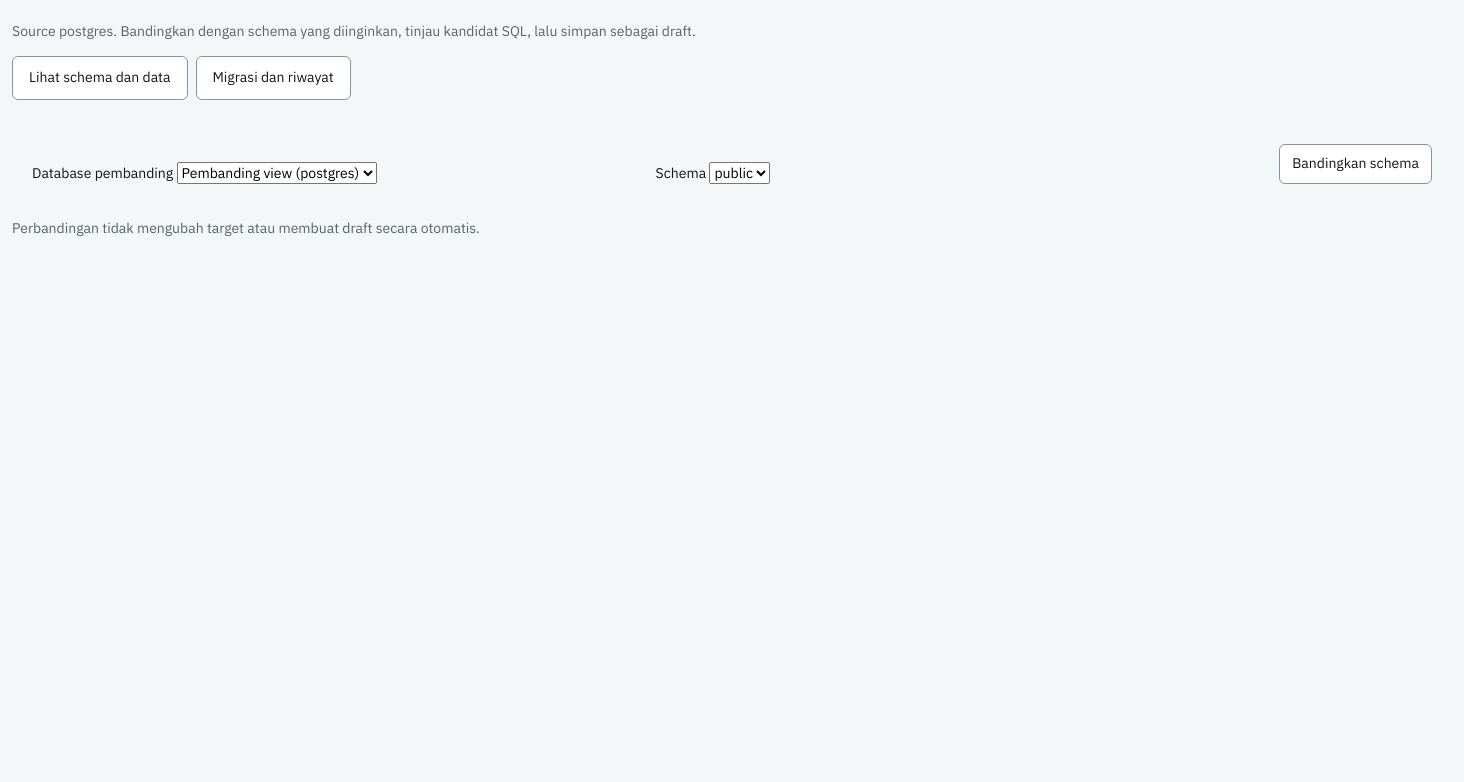
generates without creating or executing and saves edited SQL with the original head and fingerprint
This screenshot has width=1464, height=782.
Click the button "Bandingkan schema" at (1356, 164), box [1279,144,1432,184]
(page scrolled)
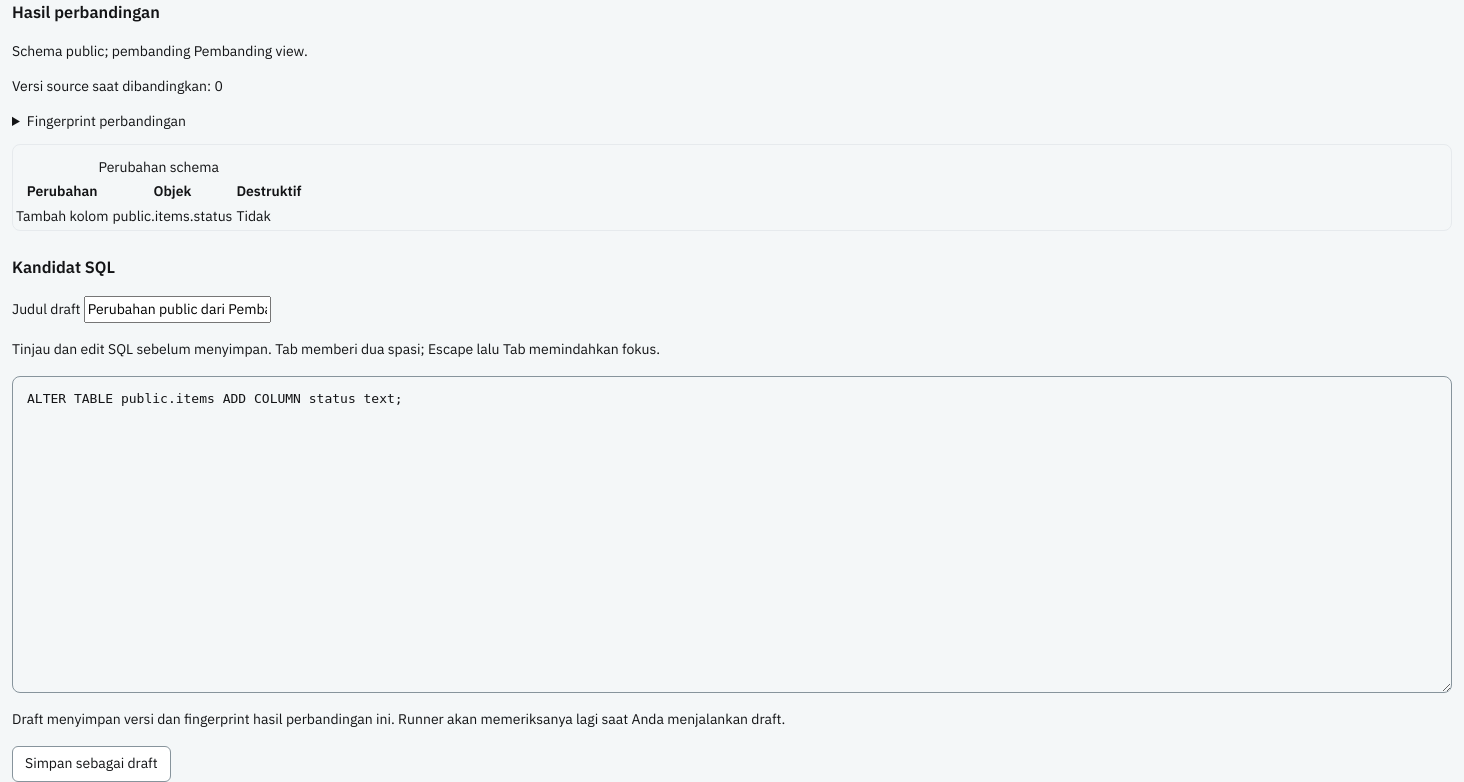
Replace the text in the text box named "SQL migrasi" with "ALTER TABLE public.items ADD COLUMN edited text;" at (732, 534), box [12,376,1452,693]
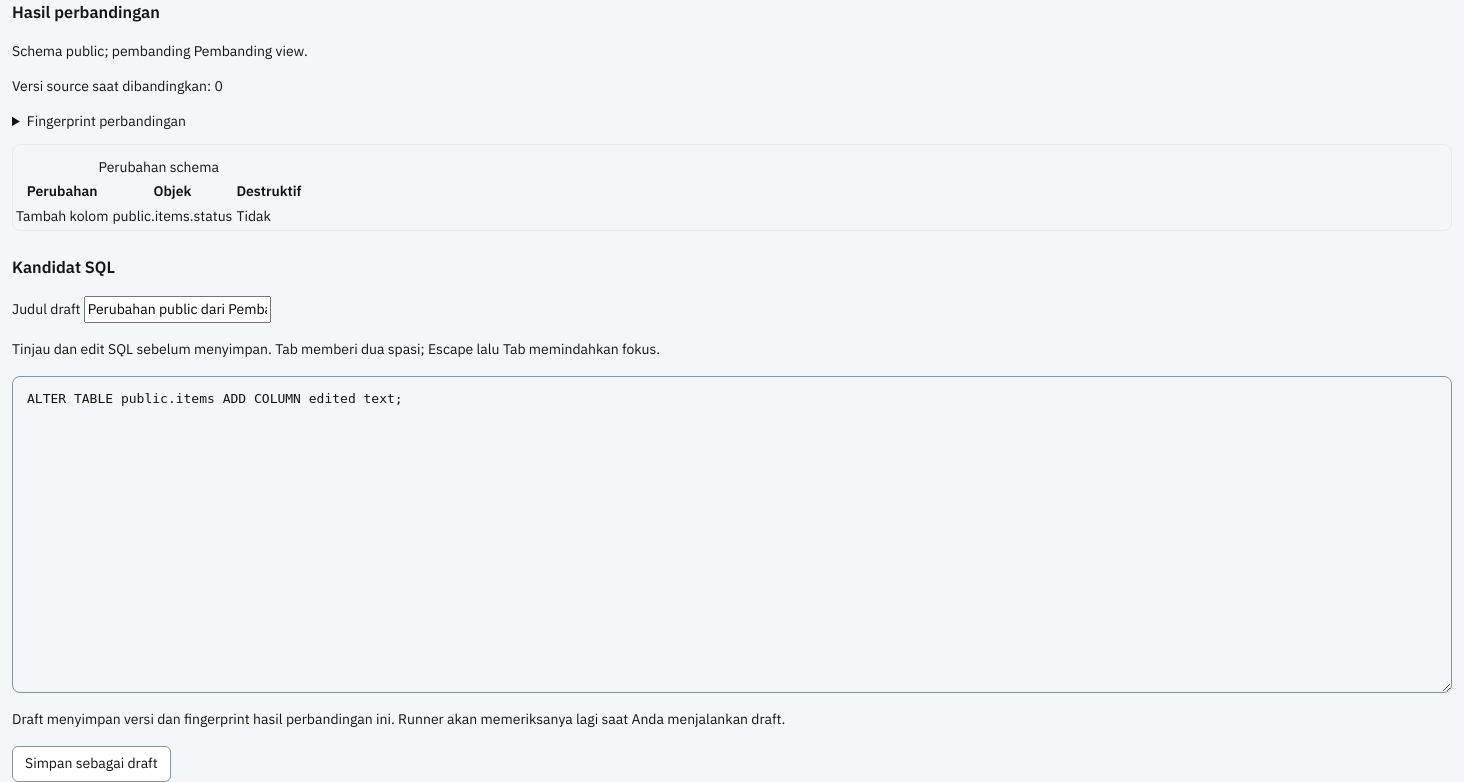
Replace the text in the field labelled "Judul draft" with "SQL yang ditinjau" at (177, 309), box [84,296,271,323]
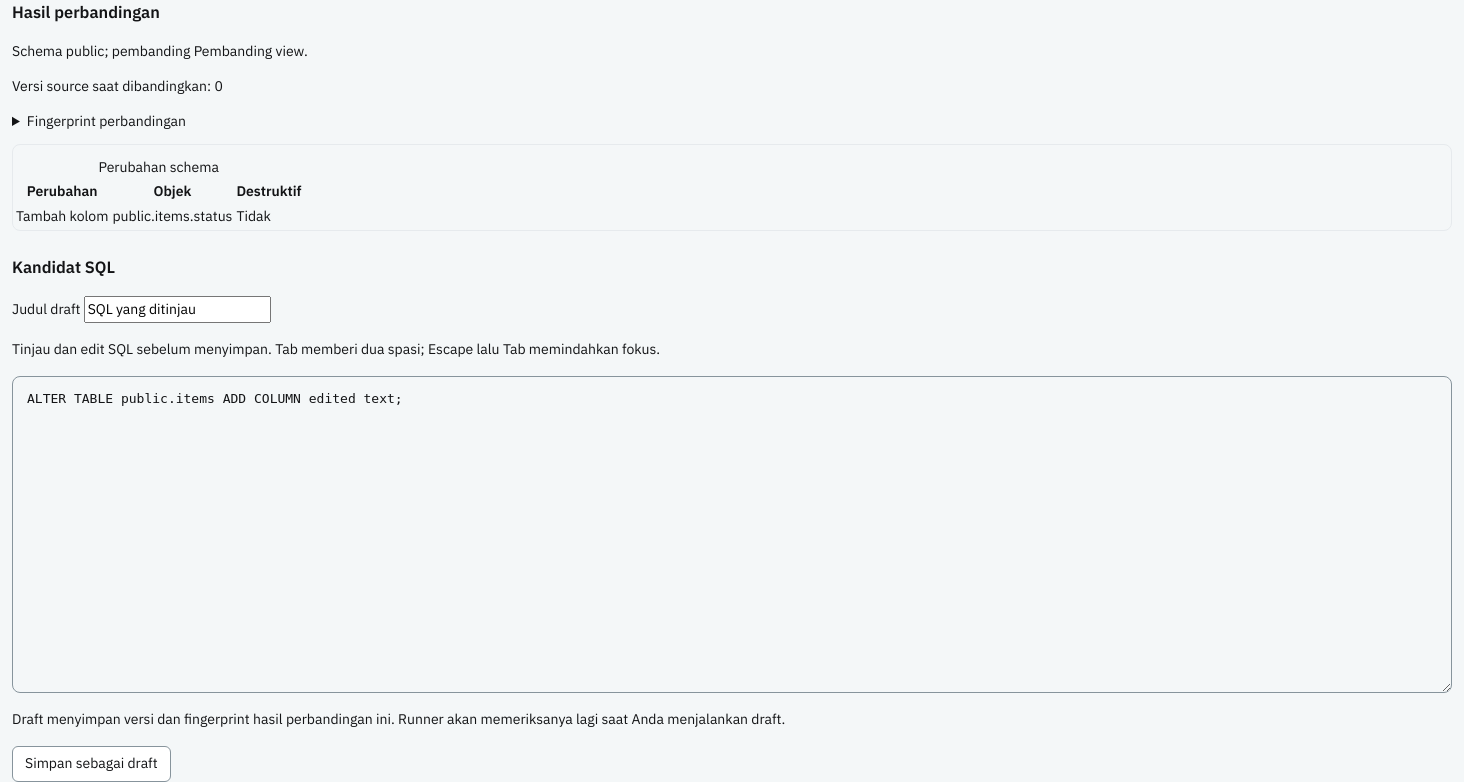
Click the button "Simpan sebagai draft" at (91, 764), box [12,746,171,781]
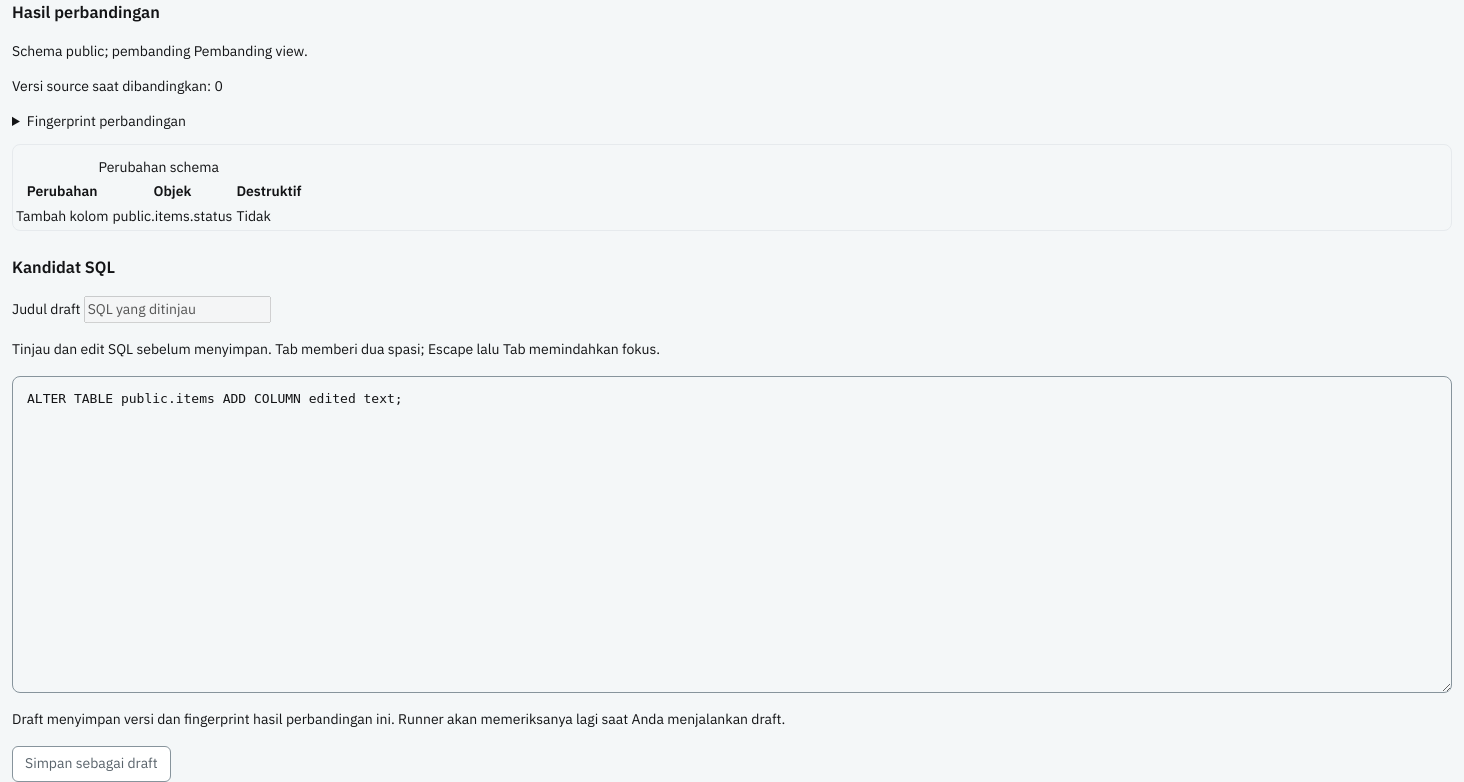
Now the button "Simpan sebagai draft" is disabled, box [12,746,171,781]
